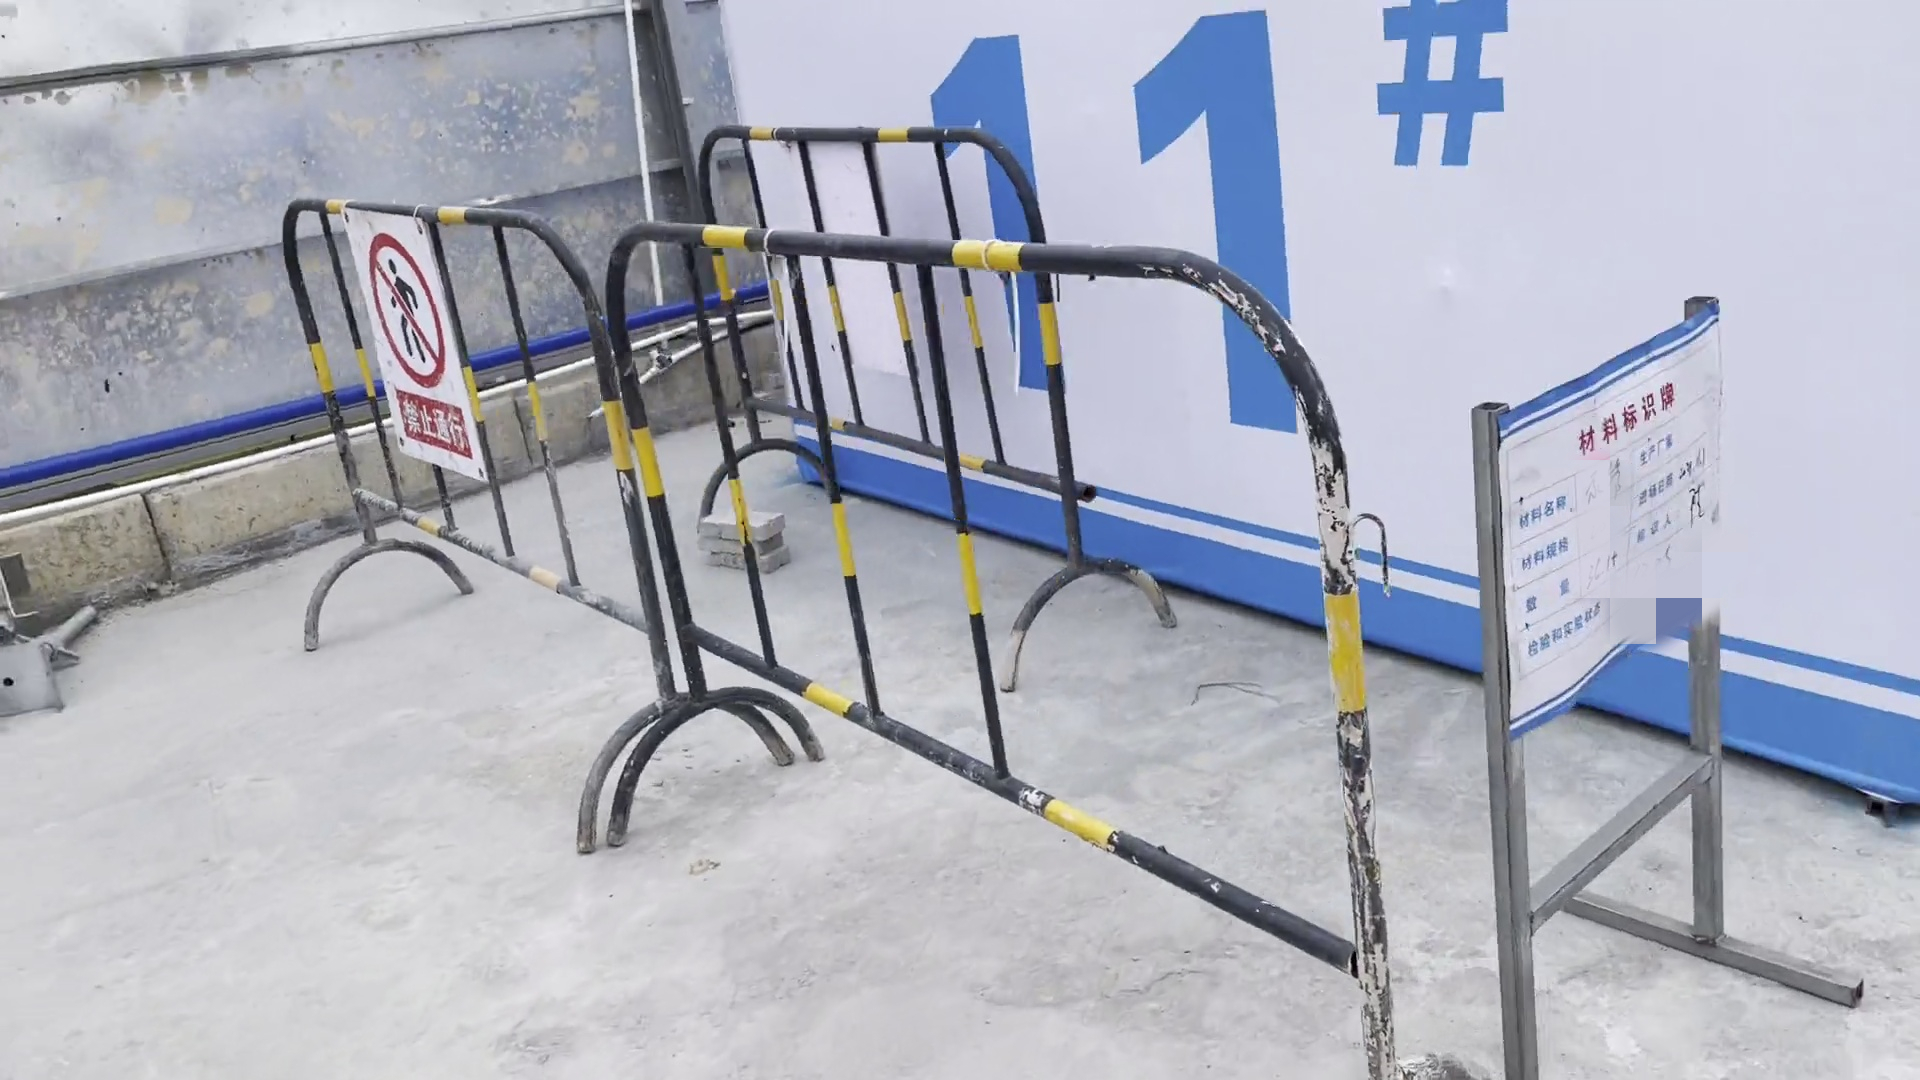brick: (692, 512, 802, 574)
fence: (237, 120, 1408, 1023)
slogan: (1437, 272, 1796, 795), (324, 208, 506, 487)
